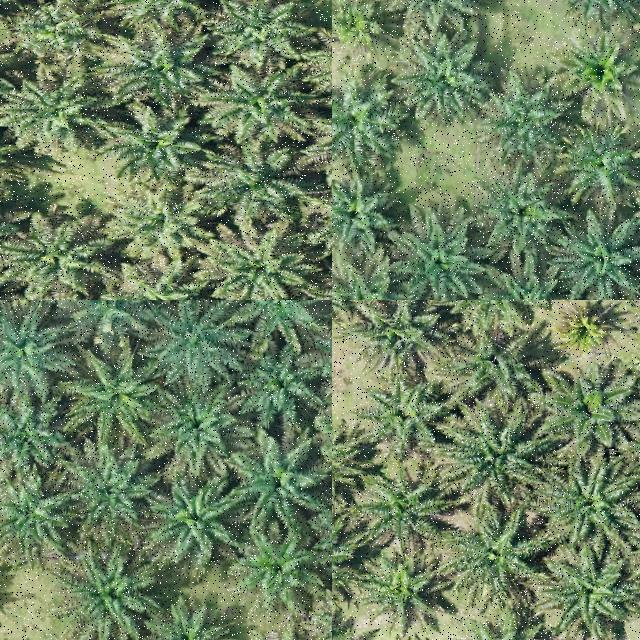Ganoderma: (565, 310, 612, 348)
